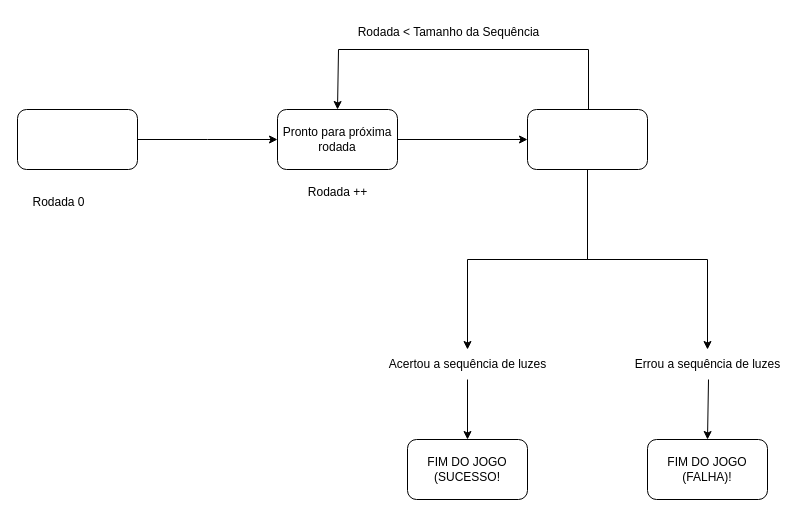
This 810x517 diagram has some shape labels left out. The centre of each missing label's shape, as x and y in pixels:
Resposta do Usuário: point (587, 139)
Setup: point (77, 139)
